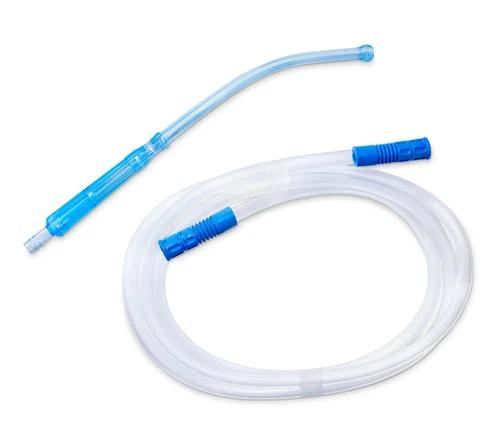Suction Tube Nozzle: (21, 41, 475, 402)
